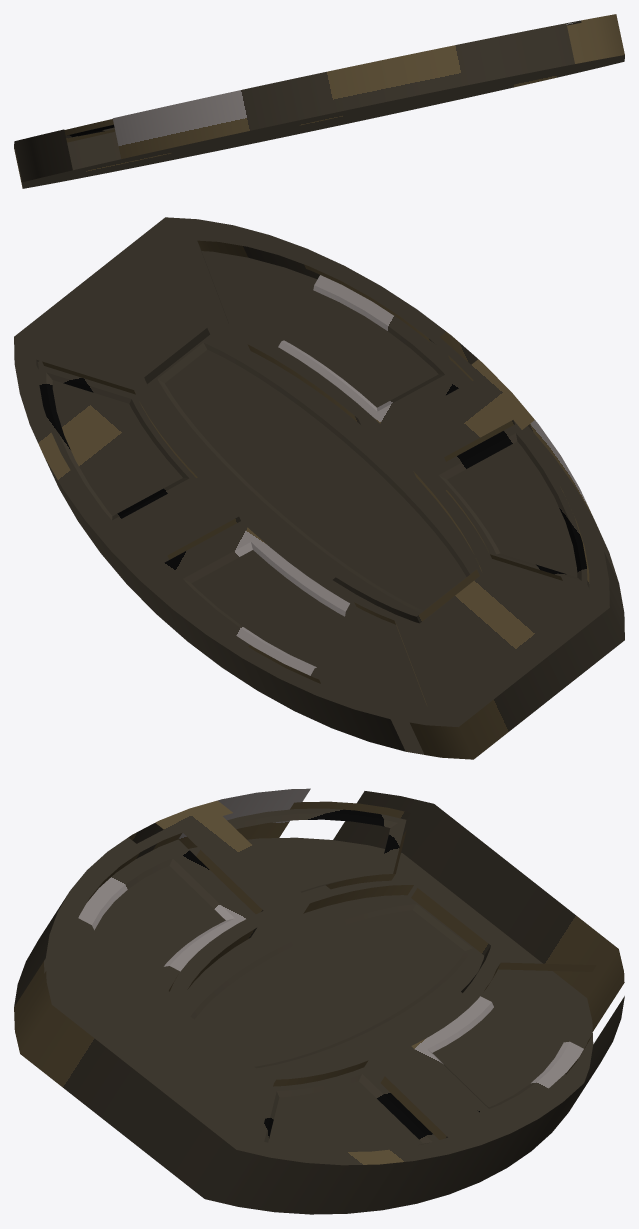
The model's file is countdown.obj.
3 renders of one model, top to bottom at view 1: azimuth 30°, elevation 25°; view 2: azimuth 150°, elevation 25°; view 3: azimuth 270°, elevation 25°, orthographic. The views are drawn at different scales.
Visible parts, largest first — view 1: timer_ref; view 2: timer_ref; view 3: timer_ref.
Part boxes in pixels (x1,y1,x2,y2): timer_ref: [14, 14, 624, 188]; timer_ref: [14, 217, 624, 759]; timer_ref: [14, 788, 624, 1214].
Size of the model in its own units: 1.24 by 0.4659 by 0.7965.
